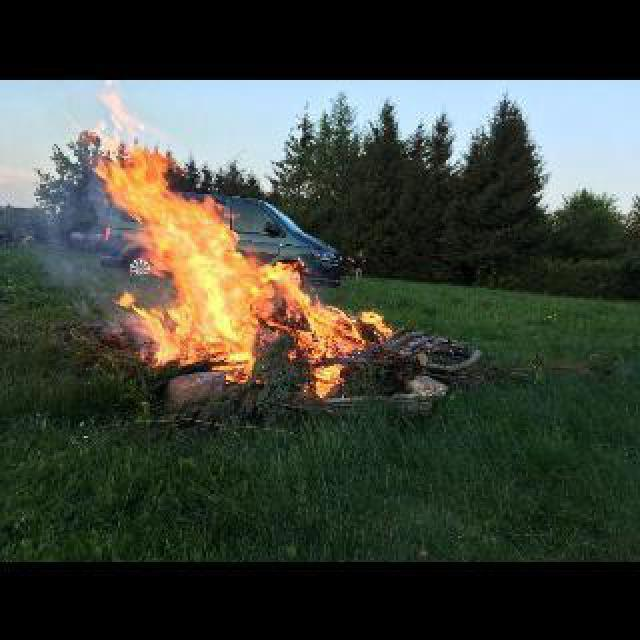Fire: (80, 82, 386, 388)
Smoke: (14, 176, 128, 336)
